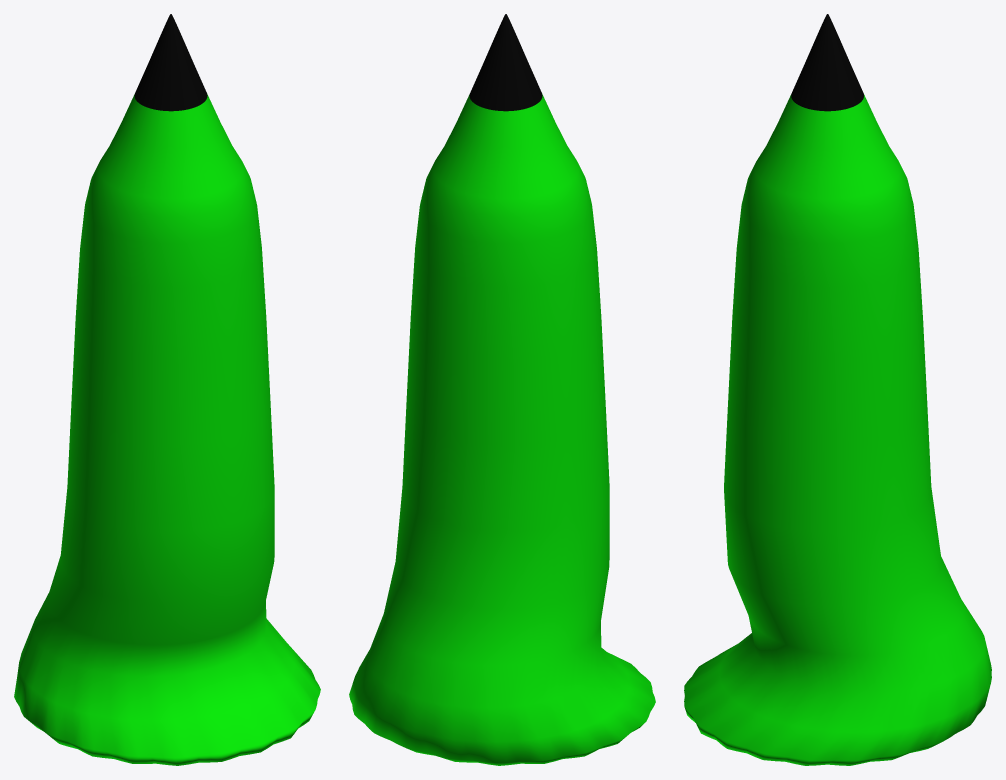
File: yeşil.fbx
The picture shows the model from 3 angles, left to right: view 1: azimuth 30°, elevation 25°; view 2: azimuth 150°, elevation 25°; view 3: azimuth 270°, elevation 25°; orthographic projection.
Parts seen in each view (by area): view 1: pCylinder1; view 2: pCylinder1; view 3: pCylinder1.
Boxes of the visible parts, box(x1,y1,x2,y2) form: pCylinder1: box(14, 14, 320, 765); pCylinder1: box(349, 14, 655, 765); pCylinder1: box(684, 14, 991, 765).
Size of the model in its own units: 3.56 by 8.96 by 3.59.
